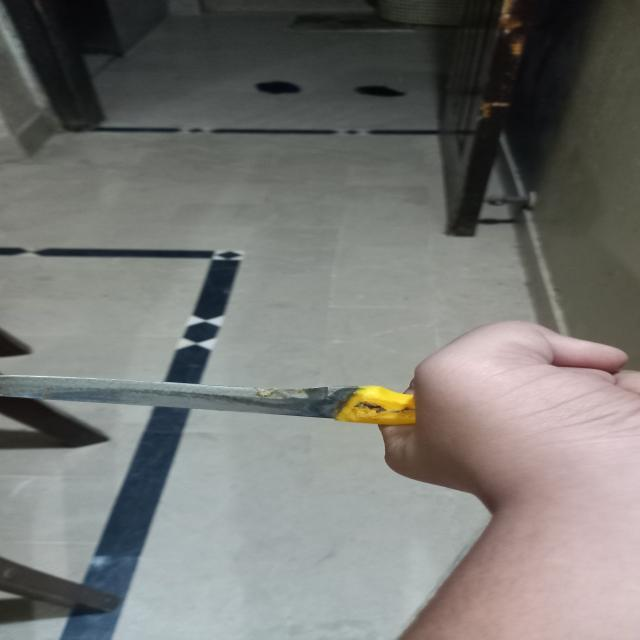Knife: (1, 352, 630, 430)
